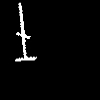double_crochet: (15, 3, 36, 60)
